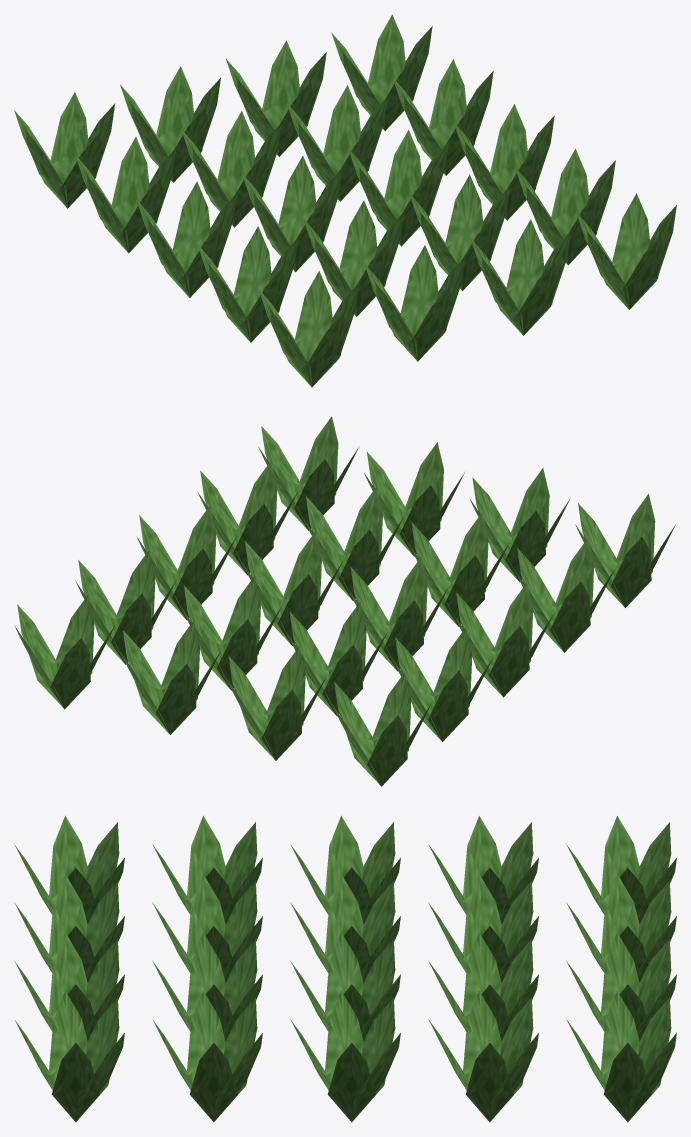
The model's file is spring_crop_patch.glb.
3 renders of one model, top to bottom at view 1: azimuth 30°, elevation 25°; view 2: azimuth 150°, elevation 25°; view 3: azimuth 270°, elevation 25°, orthographic. The views are drawn at different scales.
Visible parts, largest first — view 1: spring_crop_patch.002; view 2: spring_crop_patch.002; view 3: spring_crop_patch.002.
Boxes of the visible parts, bbox=[...] form: spring_crop_patch.002: bbox=[14, 14, 676, 387]; spring_crop_patch.002: bbox=[14, 416, 675, 786]; spring_crop_patch.002: bbox=[14, 815, 676, 1122].
Bounding box in the file's own units: 1.56 × 0.34 × 1.92.
Materials: 1 (1 with a texture image).
